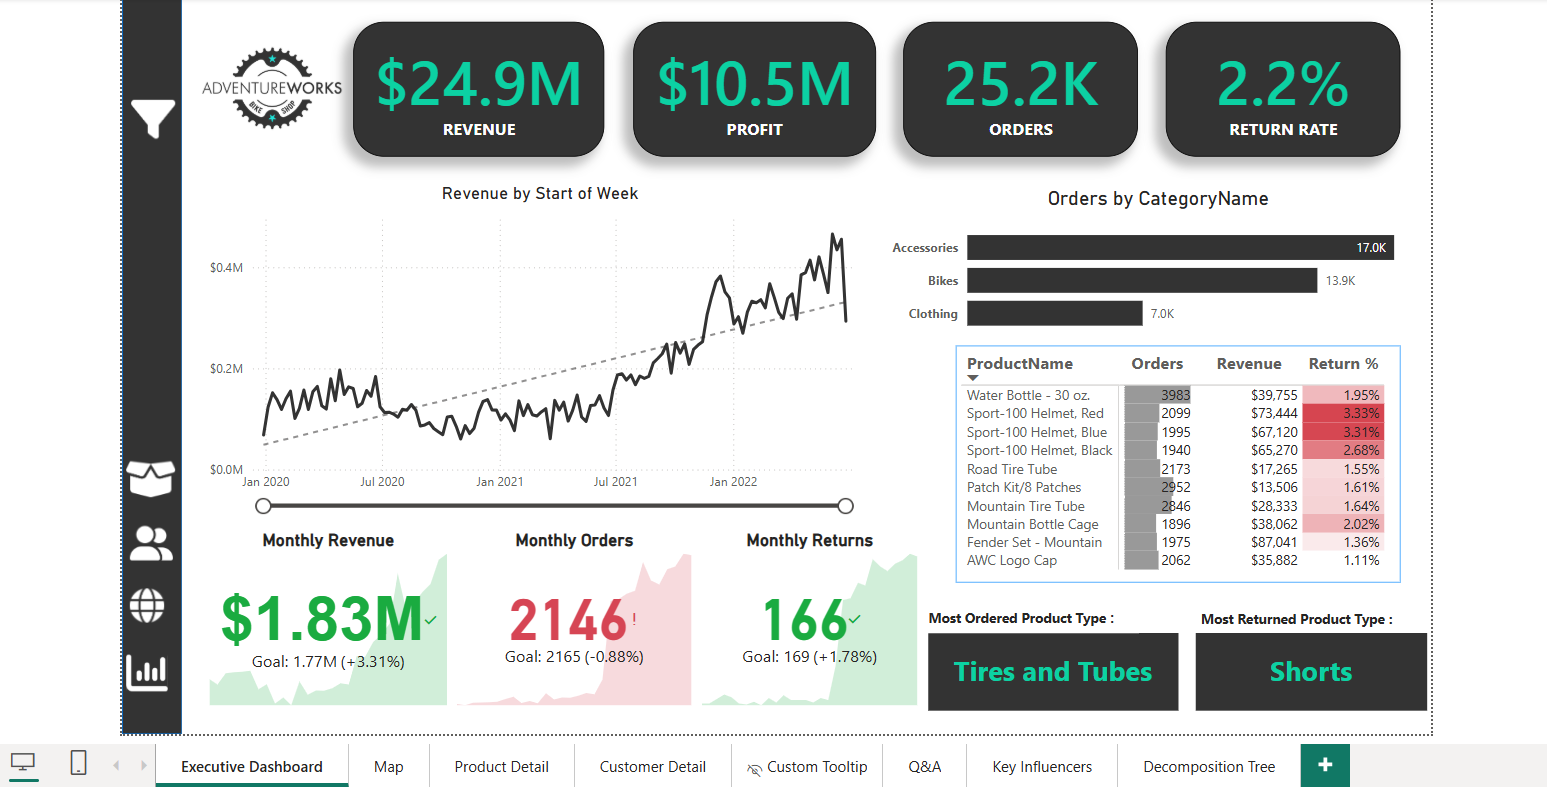

Layout of this report page (visuals, bound fields, positions):
{"tool":"powerbi","page":{"name":"Executive Dashboard","canvas":[1280,720],"ordinal":0},"visuals":[{"type":"image","box":[58.7,0,177.3,177.3],"z":0},{"type":"shape","box":[0,0,58.7,720.2],"z":1000},{"type":"card","fields":{"Values":["Measure Table.Revenue"]},"box":[226.2,23.2,245.8,132.1],"z":2000},{"type":"card","fields":{"Values":["Measure Table.Profit"]},"box":[500.1,23.2,237.2,132.1],"z":3000},{"type":"card","fields":{"Values":["Measure Table.Total Orders"]},"box":[764.3,23.2,229.9,132.1],"z":4000},{"type":"card","fields":{"Values":["Measure Table.Return Rate"]},"box":[1021.1,23.2,229.9,132.1],"z":5000},{"type":"barChart","title":" Orders by CategoryName","fields":{"Category":["Product Categories Lookup.CategoryName"],"Y":["Measure Table.Total Orders"]},"box":[747.2,184.6,533.2,155.3],"z":6000},{"type":"lineChart","fields":{"Y":["Measure Table.Revenue"],"Category":["Calendar Lookup.Start of Year","Calendar Lookup.Start of Month","Calendar Lookup.Start of Week","Calendar Lookup.Date"]},"box":[80.7,181,656.7,326.5],"z":7000},{"type":"kpi","title":"Monthly Revenue","fields":{"Indicator":["Measure Table.Revenue"],"TrendLine":["Calendar Lookup.Start of Month"],"Goal":["Measure Table.Previous Revenue"]},"box":[80.8,519.4,242.4,177.5],"z":8000},{"type":"kpi","title":"Monthly Orders","fields":{"TrendLine":["Calendar Lookup.Start of Month"],"Indicator":["Measure Table.Total Orders"],"Goal":["Measure Table.Previous Month Orders"]},"box":[323.2,519.4,239.5,177.5],"z":9000},{"type":"kpi","title":"Monthly Returns ","fields":{"TrendLine":["Calendar Lookup.Start of Month"],"Indicator":["Measure Table.Total Returns"],"Goal":["Measure Table.Previous Month Returns"]},"box":[562.7,519.4,220.7,177.5],"z":10000},{"type":"pivotTable","fields":{"Rows":["Product Lookup.ProductName"],"Values":["Measure Table.Total Orders","Measure Table.Revenue","Measure Table.Return Rate"]},"box":[815.6,339.9,435.3,232.3],"z":11000},{"type":"card","fields":{"Values":["Min(Product Subcategories Lookup.SubcategoryName)"]},"box":[788.7,621.2,244.6,75.8],"z":12000},{"type":"card","fields":{"Values":["Min(Product Subcategories Lookup.SubcategoryName)"]},"box":[1050.4,621.2,226.2,75.8],"z":13000},{"type":"textbox","box":[783.8,591.9,210.3,29.3],"z":14000},{"type":"textbox","box":[1050.1,593.1,229.9,28.1],"z":15000},{"type":"actionButton","box":[0,635.9,58.7,48.9],"z":16000},{"type":"actionButton","box":[3.7,573.5,50.1,41.6],"z":17000},{"type":"actionButton","box":[3.7,507.5,50.1,51.4],"z":18000},{"type":"actionButton","box":[0,442.7,58.7,56.3],"z":19000},{"type":"actionButton","box":[4.9,92.9,53.8,51.4],"z":20000}]}

Visuals, with their boxes on the page's 1280x720 design canvas (x1, y1, x2, y2). These are canvas units, not pixel positions in the 1547x787 screenshot, which may show the page scaled, cropped or inside an application window:
image: bbox=[59, 0, 236, 177]
shape: bbox=[0, 0, 59, 720]
card - Measure Table.Revenue: bbox=[226, 23, 472, 155]
card - Measure Table.Profit: bbox=[500, 23, 737, 155]
card - Measure Table.Total Orders: bbox=[764, 23, 994, 155]
card - Measure Table.Return Rate: bbox=[1021, 23, 1251, 155]
" Orders by CategoryName" barChart: bbox=[747, 185, 1280, 340]
lineChart - Measure Table.Revenue x Calendar Lookup.Start of Year: bbox=[81, 181, 737, 508]
"Monthly Revenue" kpi: bbox=[81, 519, 323, 697]
"Monthly Orders" kpi: bbox=[323, 519, 563, 697]
"Monthly Returns " kpi: bbox=[563, 519, 783, 697]
pivotTable - Product Lookup.ProductName x Measure Table.Total Orders: bbox=[816, 340, 1251, 572]
card - Min(Product Subcategories Lookup.SubcategoryName): bbox=[789, 621, 1033, 697]
card - Min(Product Subcategories Lookup.SubcategoryName): bbox=[1050, 621, 1277, 697]
textbox: bbox=[784, 592, 994, 621]
textbox: bbox=[1050, 593, 1280, 621]
actionButton: bbox=[0, 636, 59, 685]
actionButton: bbox=[4, 574, 54, 615]
actionButton: bbox=[4, 508, 54, 559]
actionButton: bbox=[0, 443, 59, 499]
actionButton: bbox=[5, 93, 59, 144]
